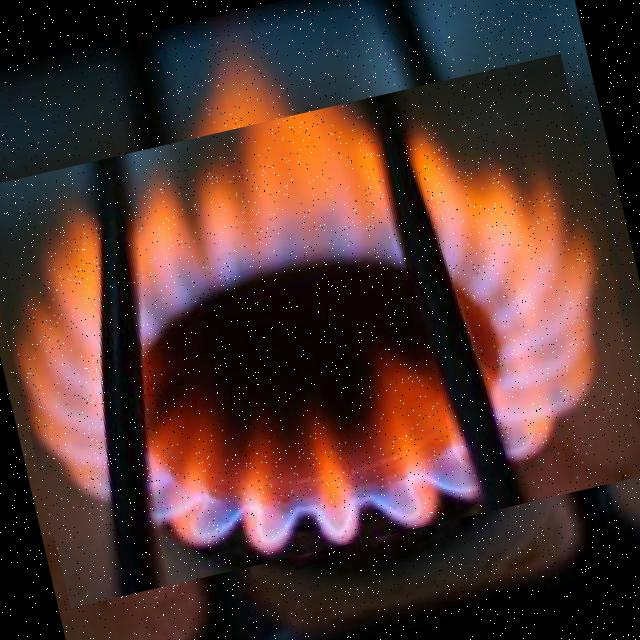fire: (0, 53, 640, 607)
